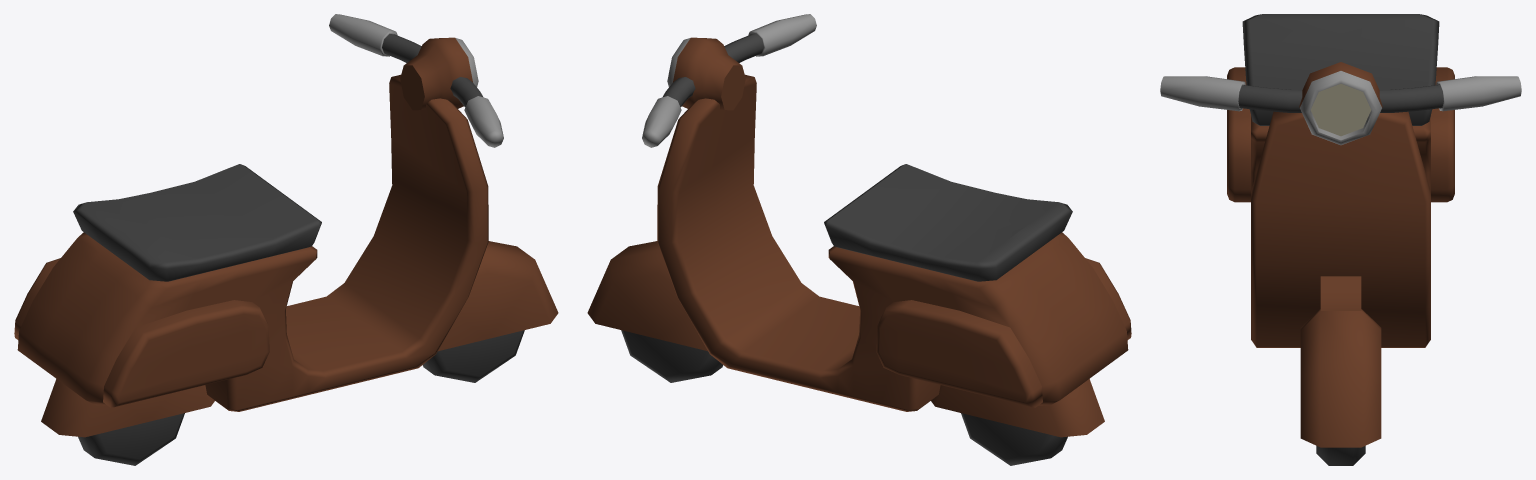
The model's file is PS_Vespa.fbx.
3 renders of one model, left to right at view 1: azimuth 30°, elevation 25°; view 2: azimuth 150°, elevation 25°; view 3: azimuth 270°, elevation 25°, orthographic. The views are drawn at different scales.
Parts seen in each view (by area): view 1: PS_Vespa; view 2: PS_Vespa; view 3: PS_Vespa.
Part boxes in pixels (box(x1,y1,x2,y2)): PS_Vespa: box(14, 14, 558, 465); PS_Vespa: box(587, 14, 1131, 465); PS_Vespa: box(1160, 14, 1521, 465).
Bounding box in the file's own units: 0.8897 × 0.5904 × 0.4996.
